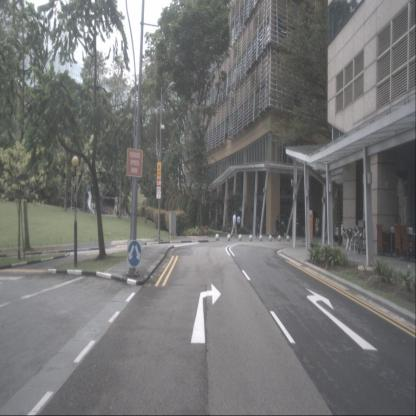human-pedestrian-adult: (230, 211, 238, 238), (274, 215, 281, 238), (256, 214, 260, 239), (237, 214, 241, 233)
